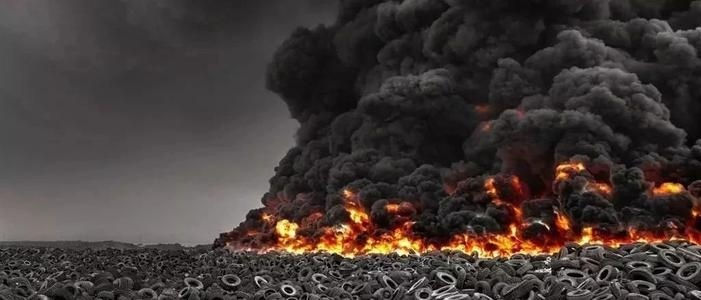fire: (253, 169, 699, 265)
